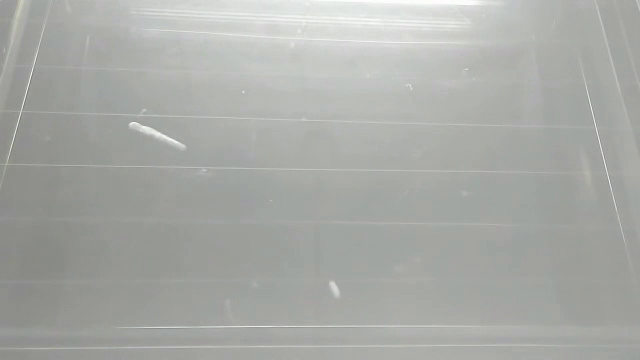alpha: (125, 118, 191, 156), (326, 277, 345, 301)
